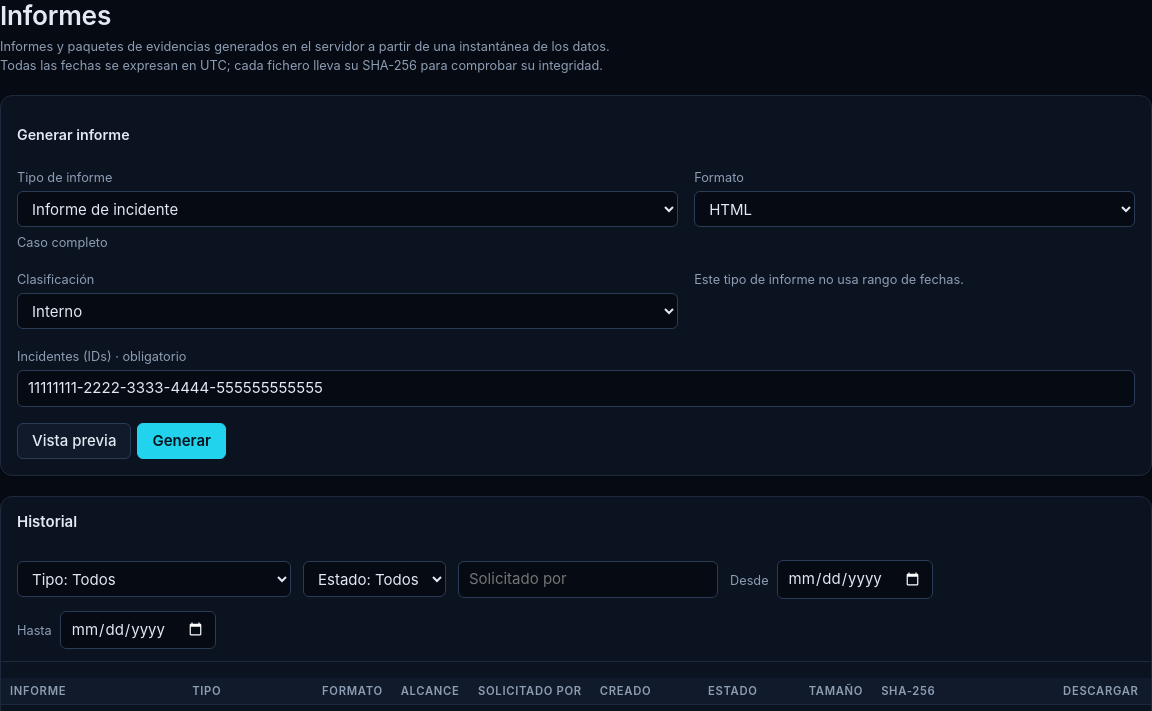
Scenario: ReportsPage › sends an idempotency key when generating and reuses it on retry of the same request
Select "Paquete de evidencias (ZIP)" in the dropdown labelled "Formato" at (915, 209), box [694,191,1135,227]
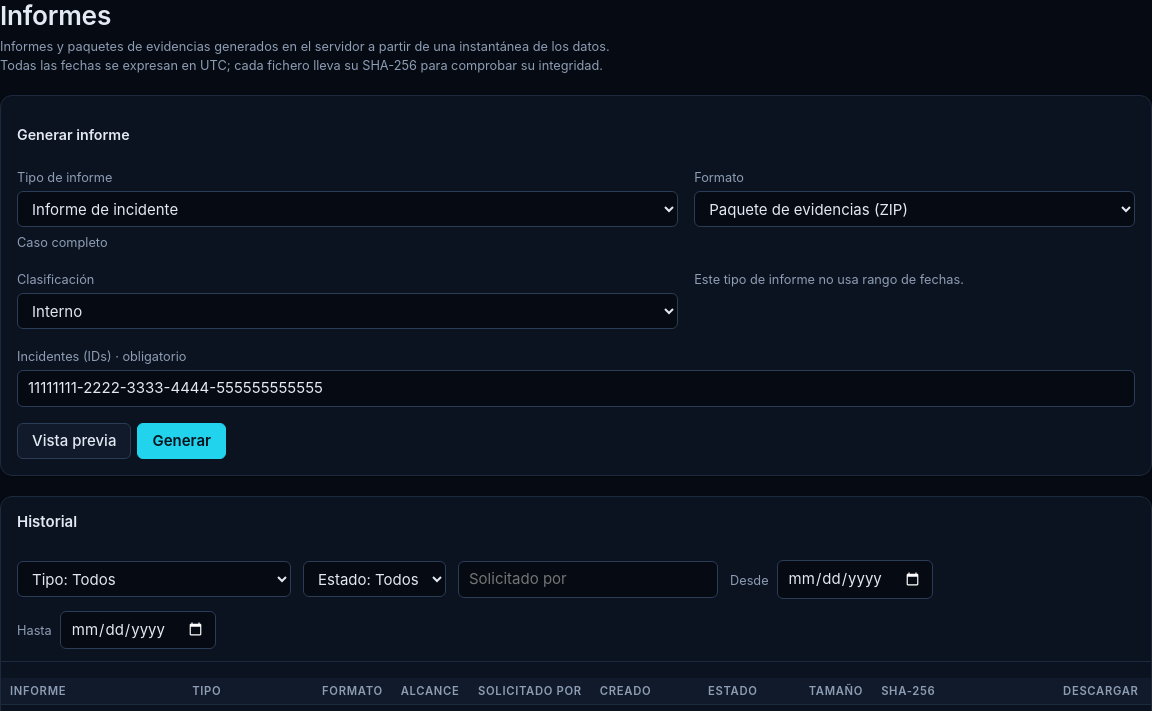
Select "Confidencial" in the dropdown labelled "Clasificación" at (348, 311), box [17,293,678,329]
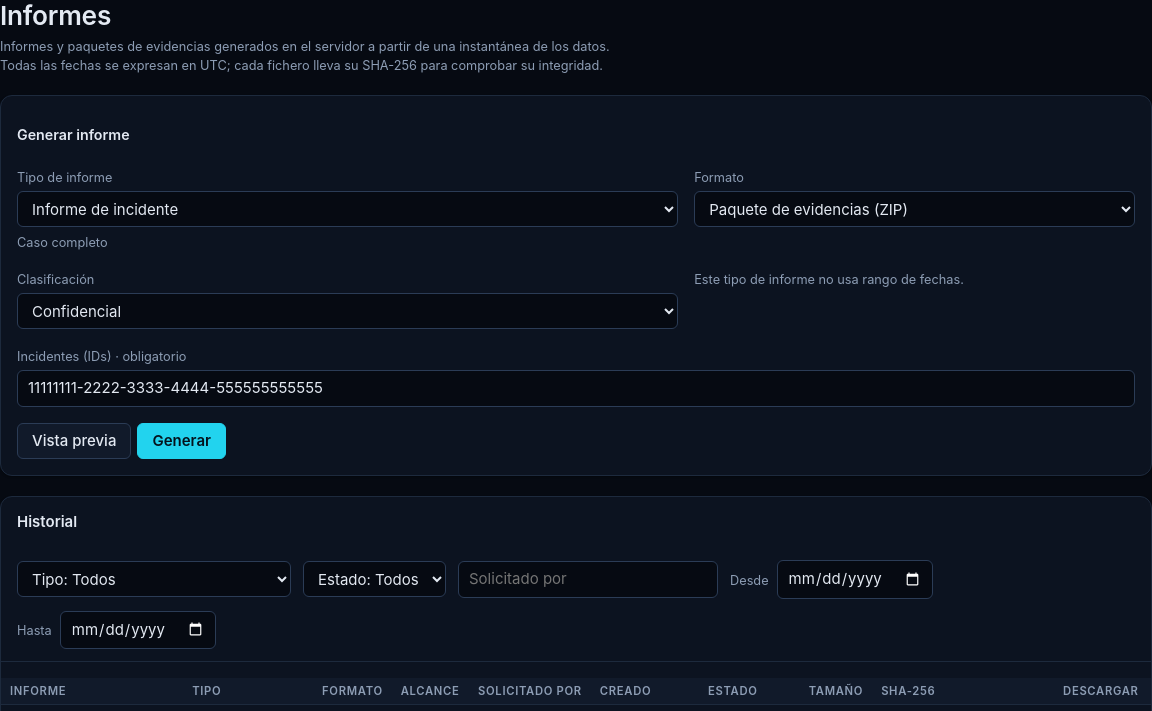
Click the button "Generar" at (182, 441), box [137,423,226,459]
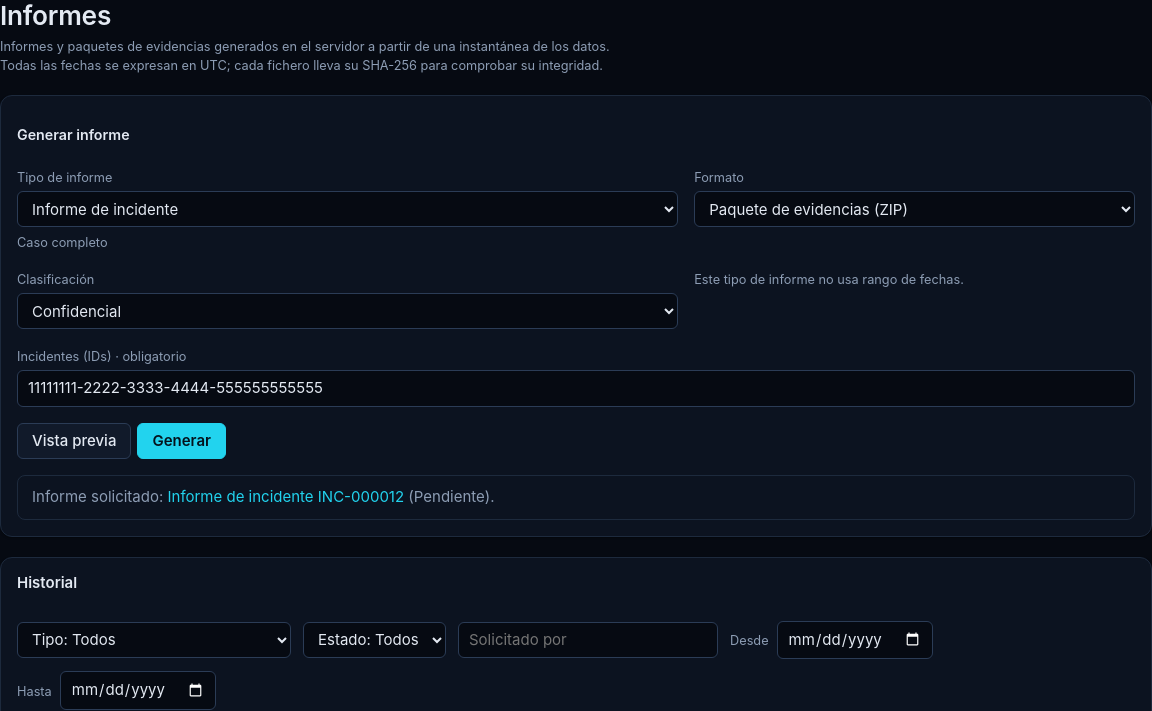
Now the text "Informe solicitado: Informe de incidente INC-000012 (Pendiente)." is shown, box [17,475,1135,520]
